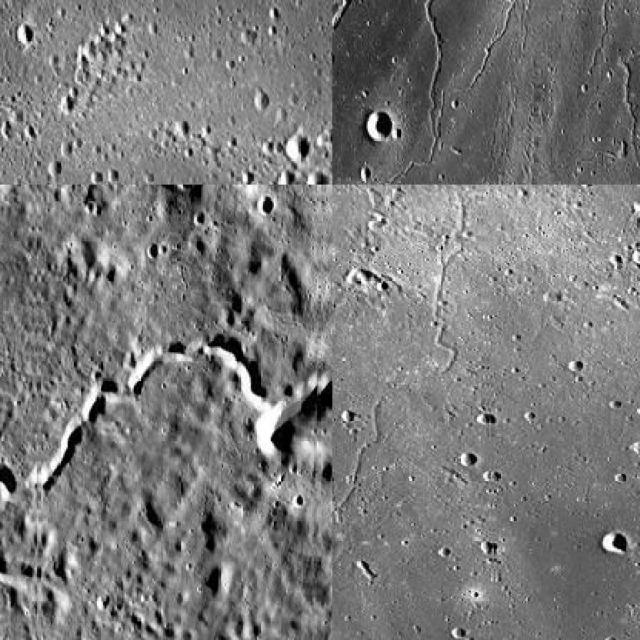rille: (332, 184, 526, 638), (0, 336, 331, 518), (332, 0, 638, 183), (423, 0, 540, 140)
